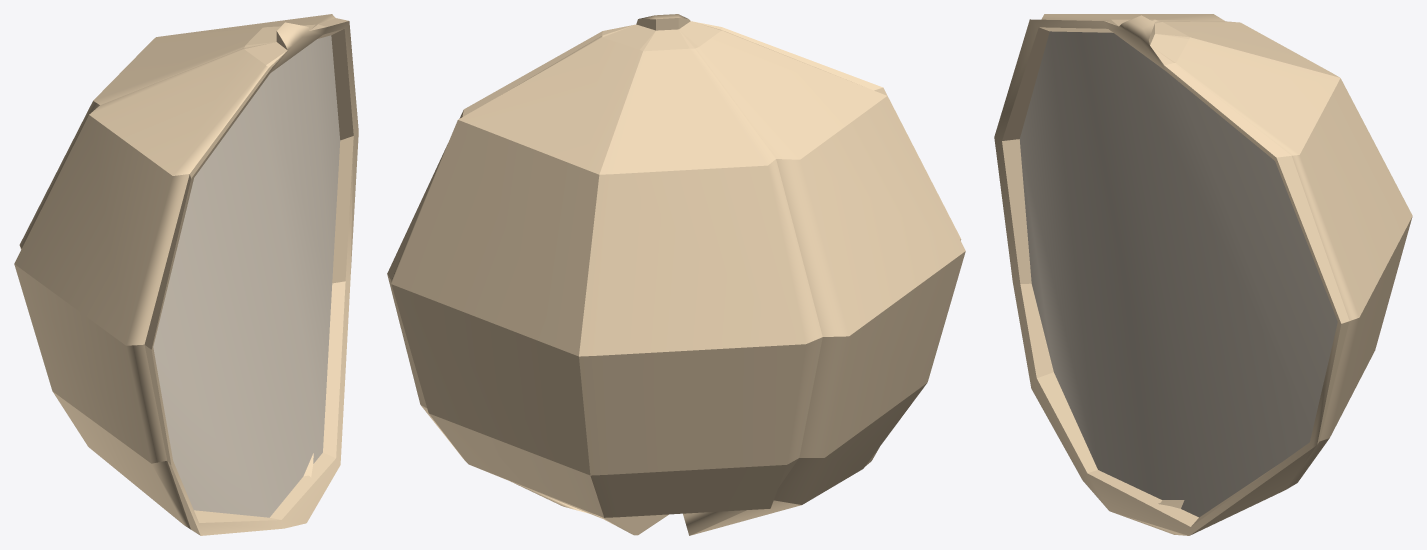
File: Cut_onion.fbx
3 views of the same model, side by side, from view 1: azimuth 30°, elevation 25°; view 2: azimuth 150°, elevation 25°; view 3: azimuth 270°, elevation 25° (orthographic). The views are drawn at different scales.
Parts seen in each view (by area): view 1: Cut_Onion; view 2: Cut_Onion; view 3: Cut_Onion.
Boxes of the visible parts, x1,y1,x2,y2 form: Cut_Onion: (14,14,358,535); Cut_Onion: (387,14,965,535); Cut_Onion: (994,14,1412,535).
Size of the model in its own units: 1.27 by 1.49 by 1.16.
